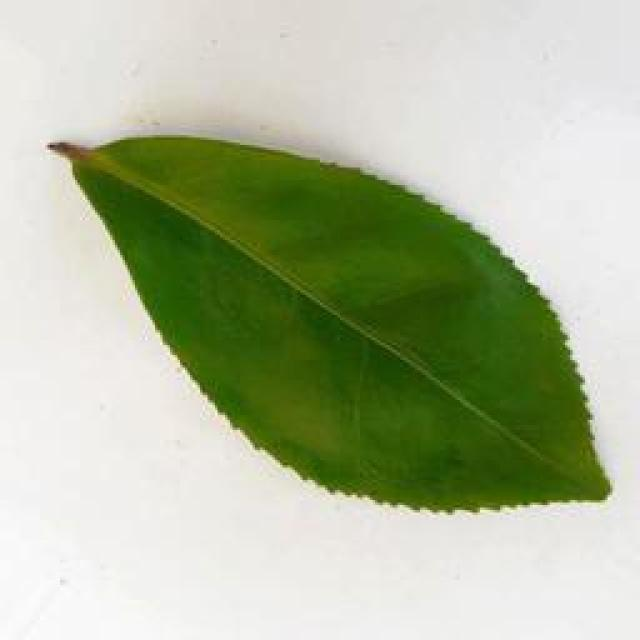Healthy: (48, 142, 616, 508)
